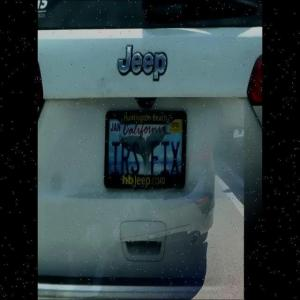Plate: (104, 111, 189, 190)
